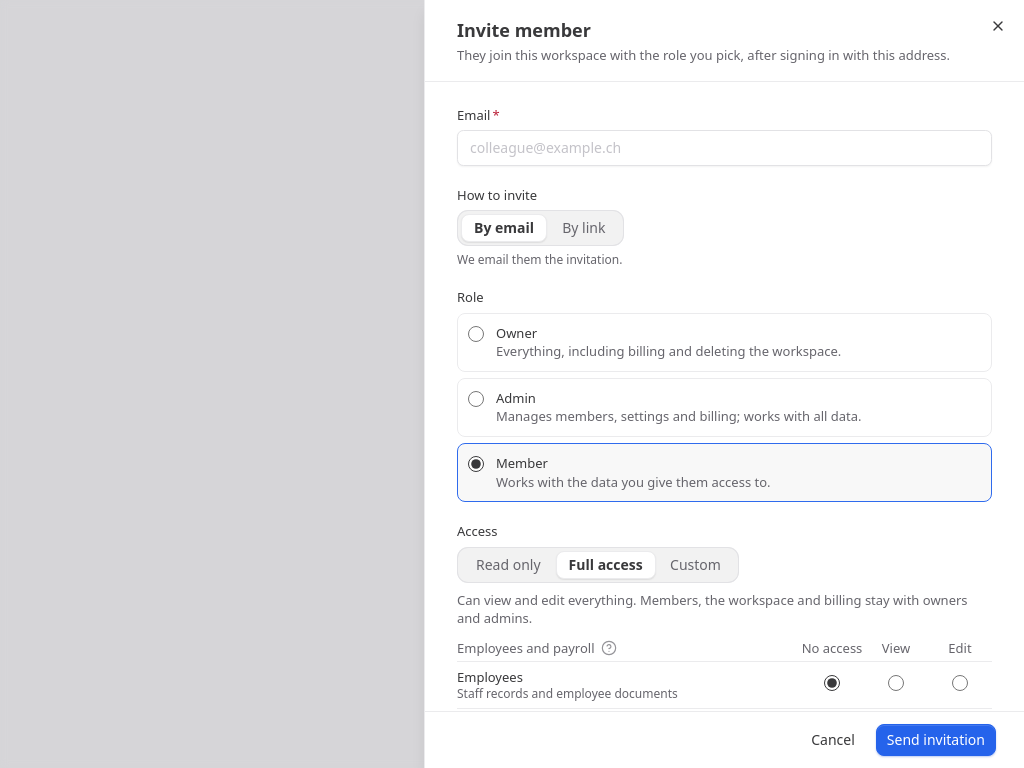
Test: the Full access preset sends its scopes and says what they allow
This screenshot has width=1024, height=768.
Later steps or results of the test are not shown.
Click the 1st radio button labelled "Read only" at (508, 564), box x1=476 y1=555 x2=541 y2=574
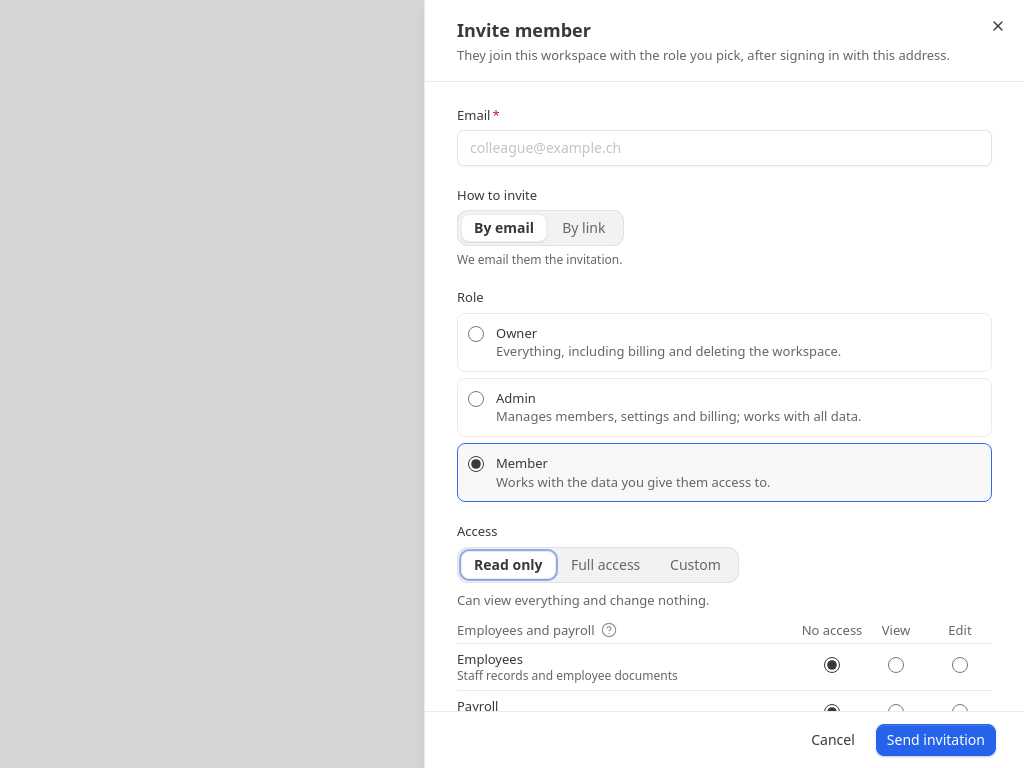
Click the 1st radio button labelled "Full access" at (606, 564), box x1=571 y1=555 x2=640 y2=574
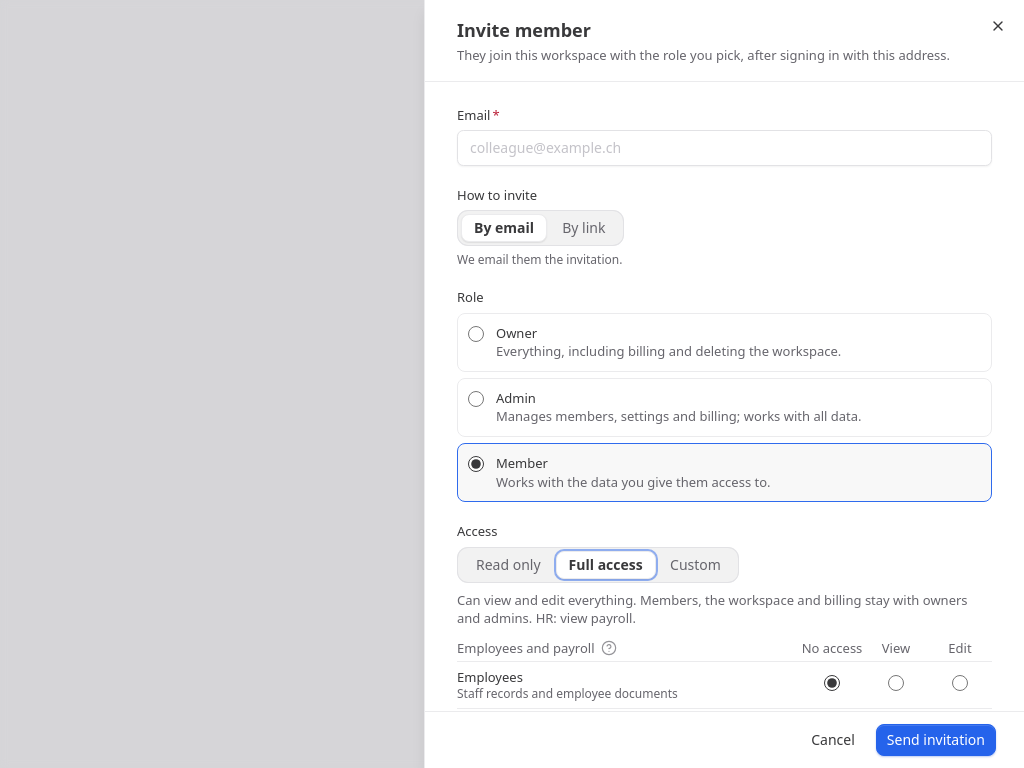
Expected: the text "Can view and edit everything. Members, the workspace and billing stay with owners and admins. HR: view payroll." is shown, x1=457 y1=591 x2=992 y2=627
